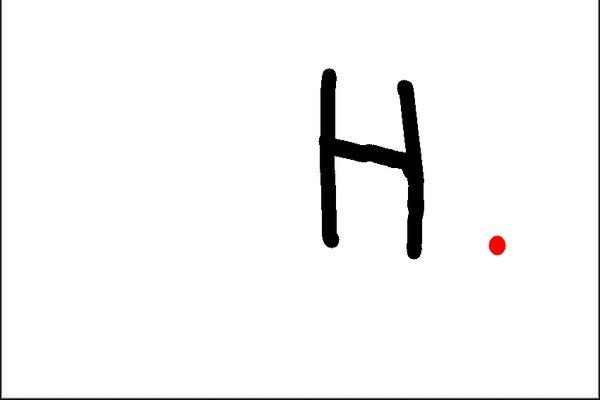H: (305, 60, 433, 264)
